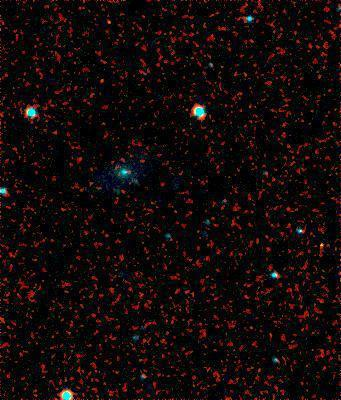star: (307, 230, 337, 260)
